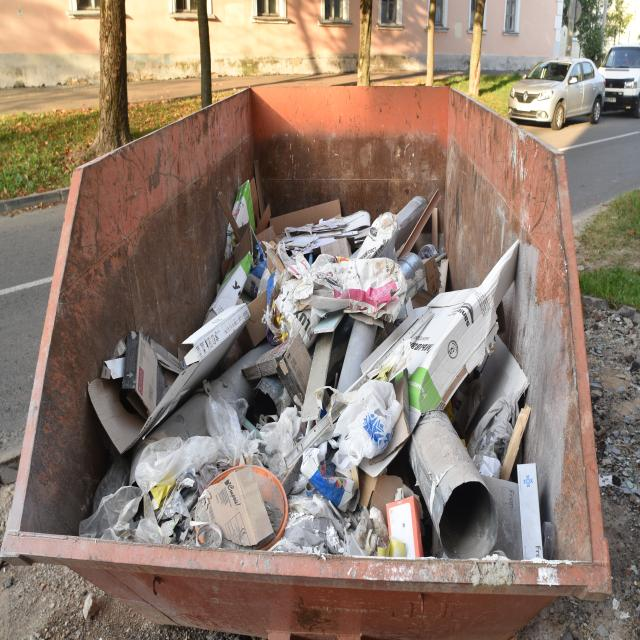lixo domiciliar: (73, 142, 569, 568)
